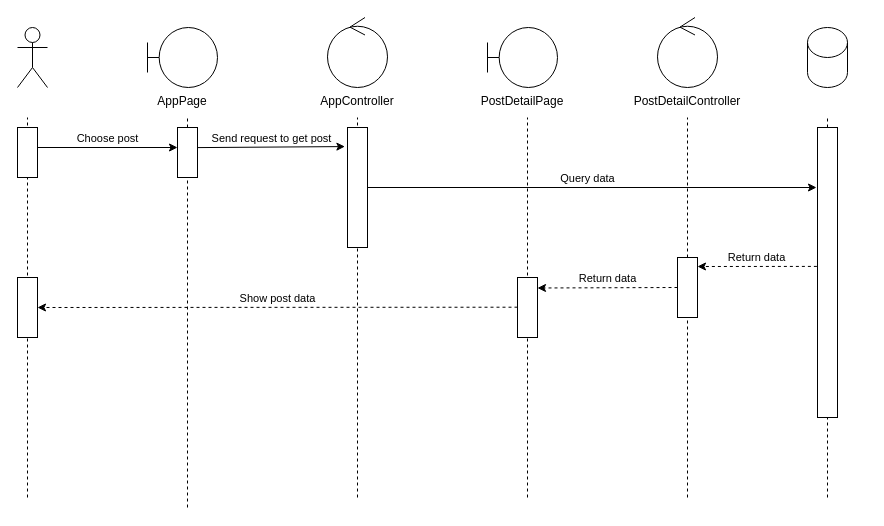
This 884x526 diagram has some shape labels left out. Each missing label, with the centre of its shape:
Post Database: the point at 827,57
User: the point at 32,57
